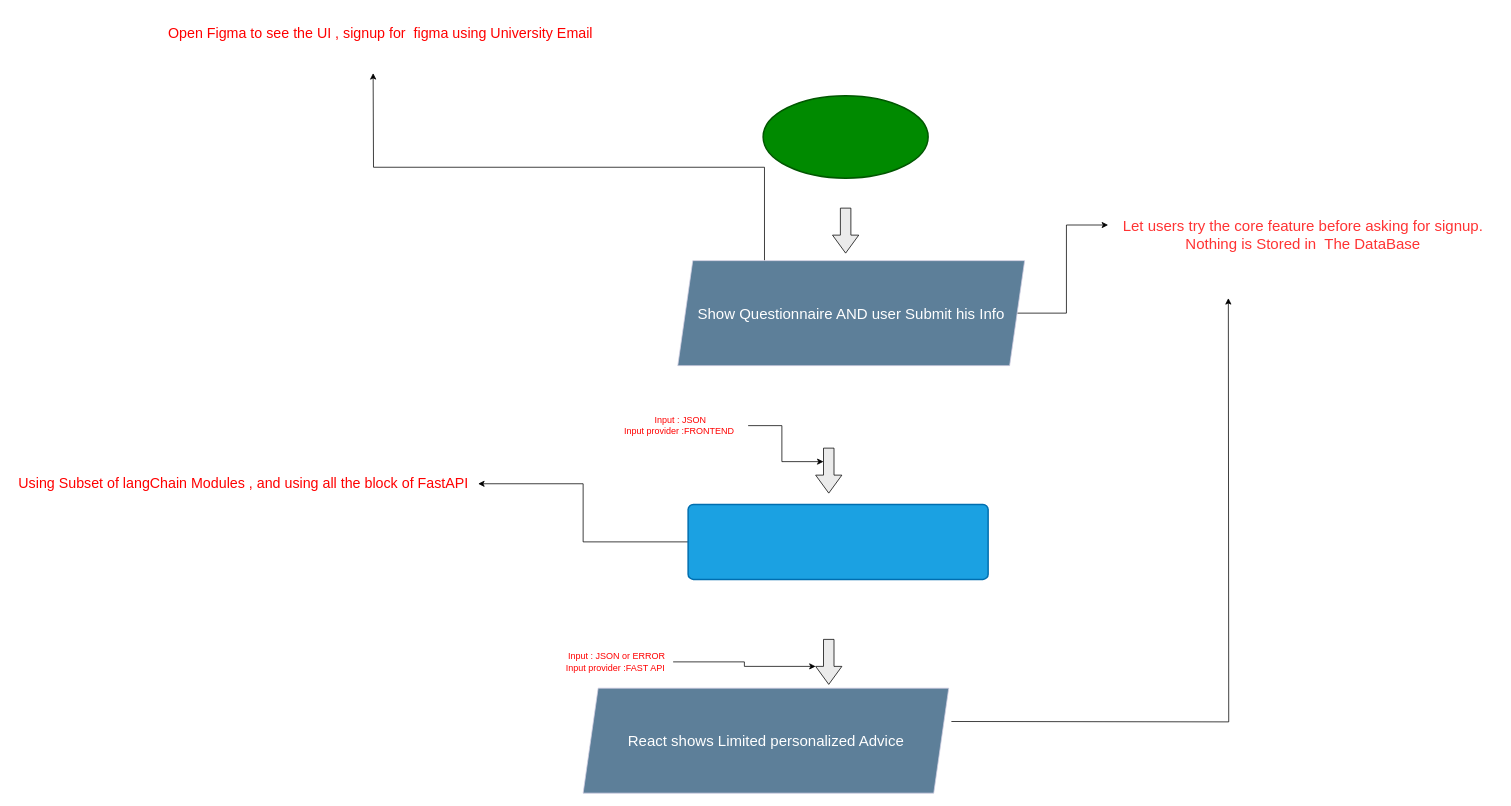
Some shapes in this 1511 by 806 pixel diagram are drawn without their labels. Each missing label, with the centre of its shape:
"processing" belongs at (x=837, y=541).
"Show Welcome Page" belongs at (x=845, y=136).
